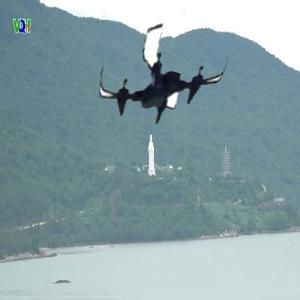drone: (101, 20, 222, 141)
